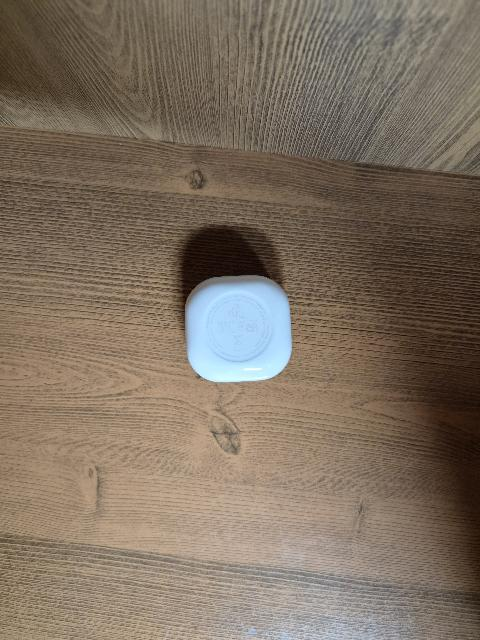earphone_case: (184, 275, 292, 382)
